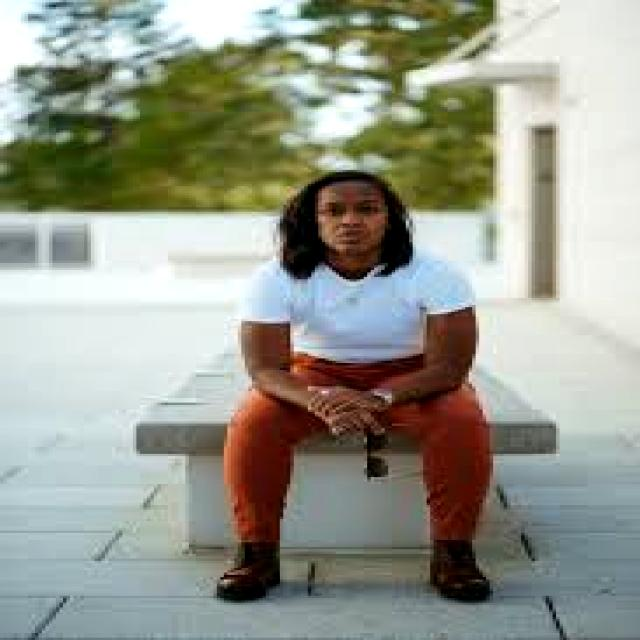face: (315, 180, 388, 258)
foot-wear: (431, 540, 493, 602), (217, 543, 279, 600)
lower-wear: (385, 384, 493, 539)
top-wear: (245, 251, 477, 362)
